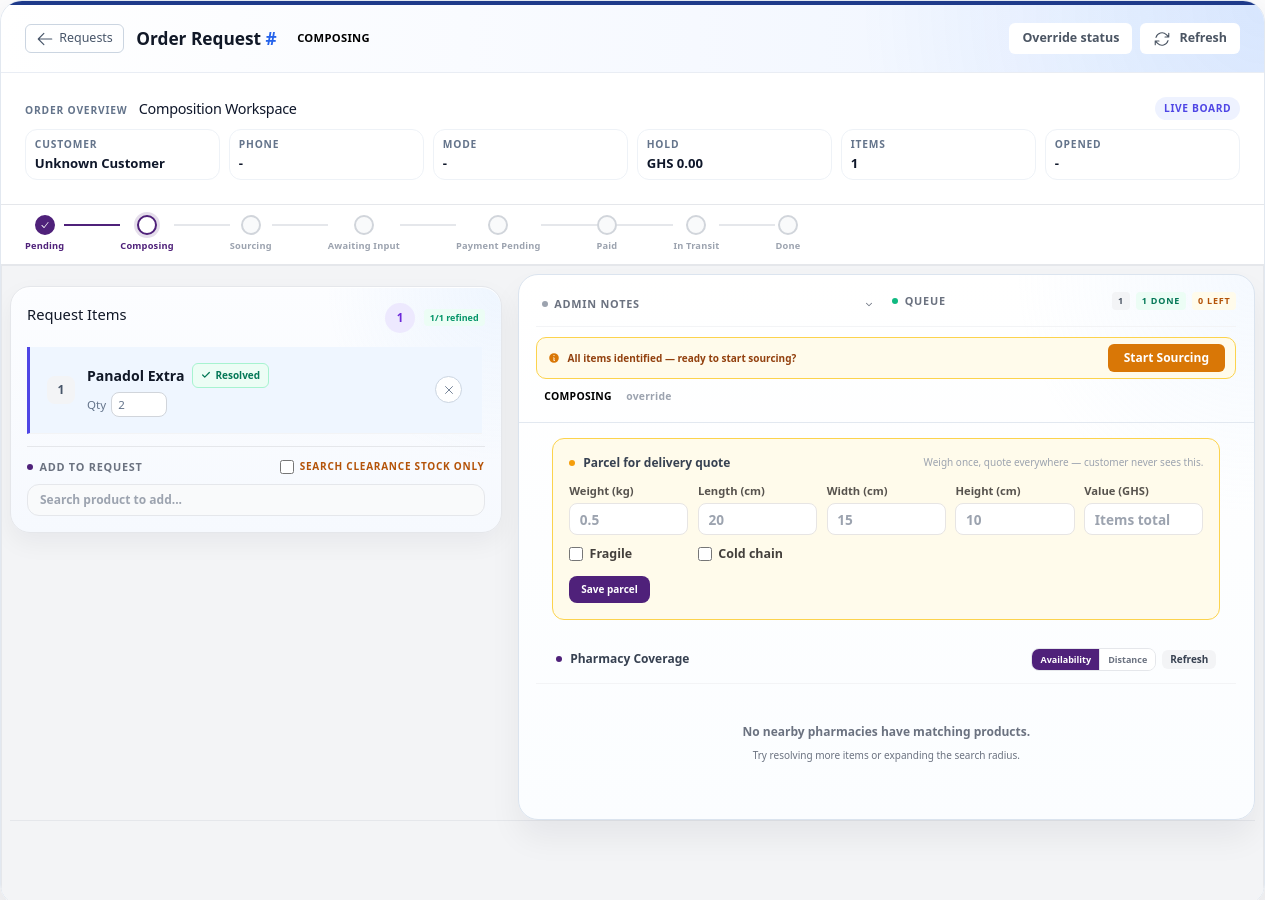
compose: adding an item › says the item was added when only the refresh afterwards fails
Type "Amoxicillin" into the field with placeholder "Search product to add..." at (256, 500), box 27,484 -> 485,516
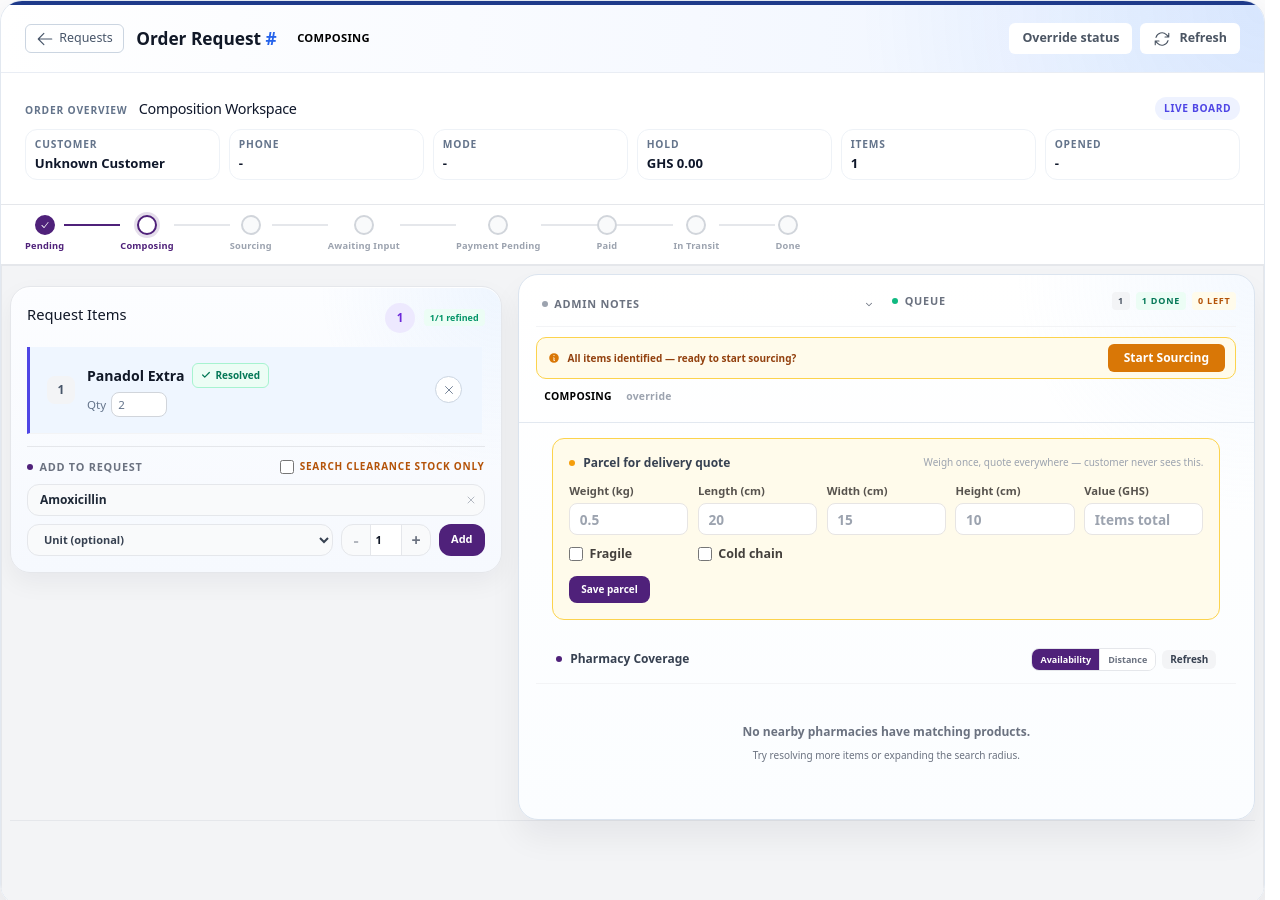
Click the button "Add" at (462, 540), box 439,524 -> 485,556
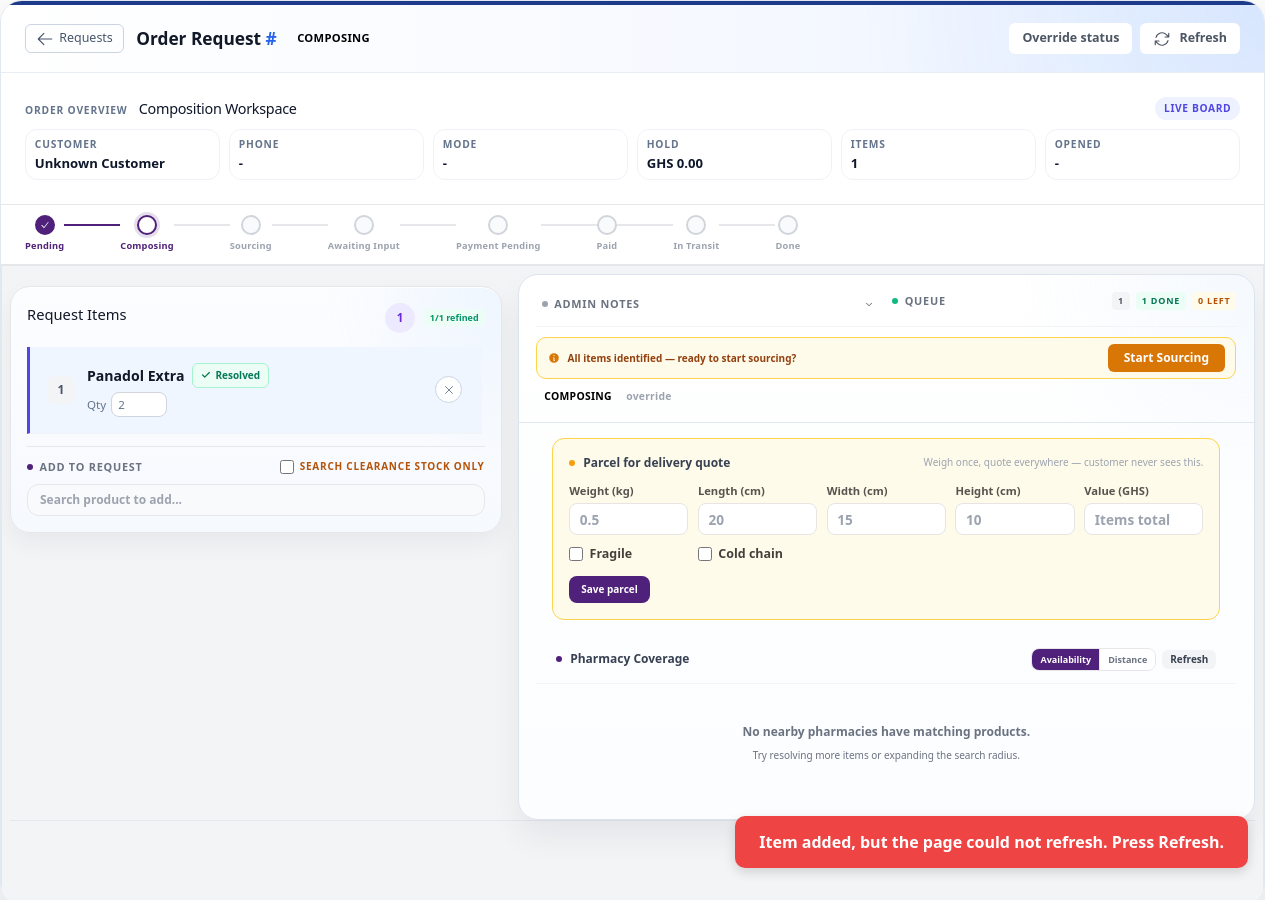
Expected: the text "Item added" is shown, 759,831 -> 1224,853
